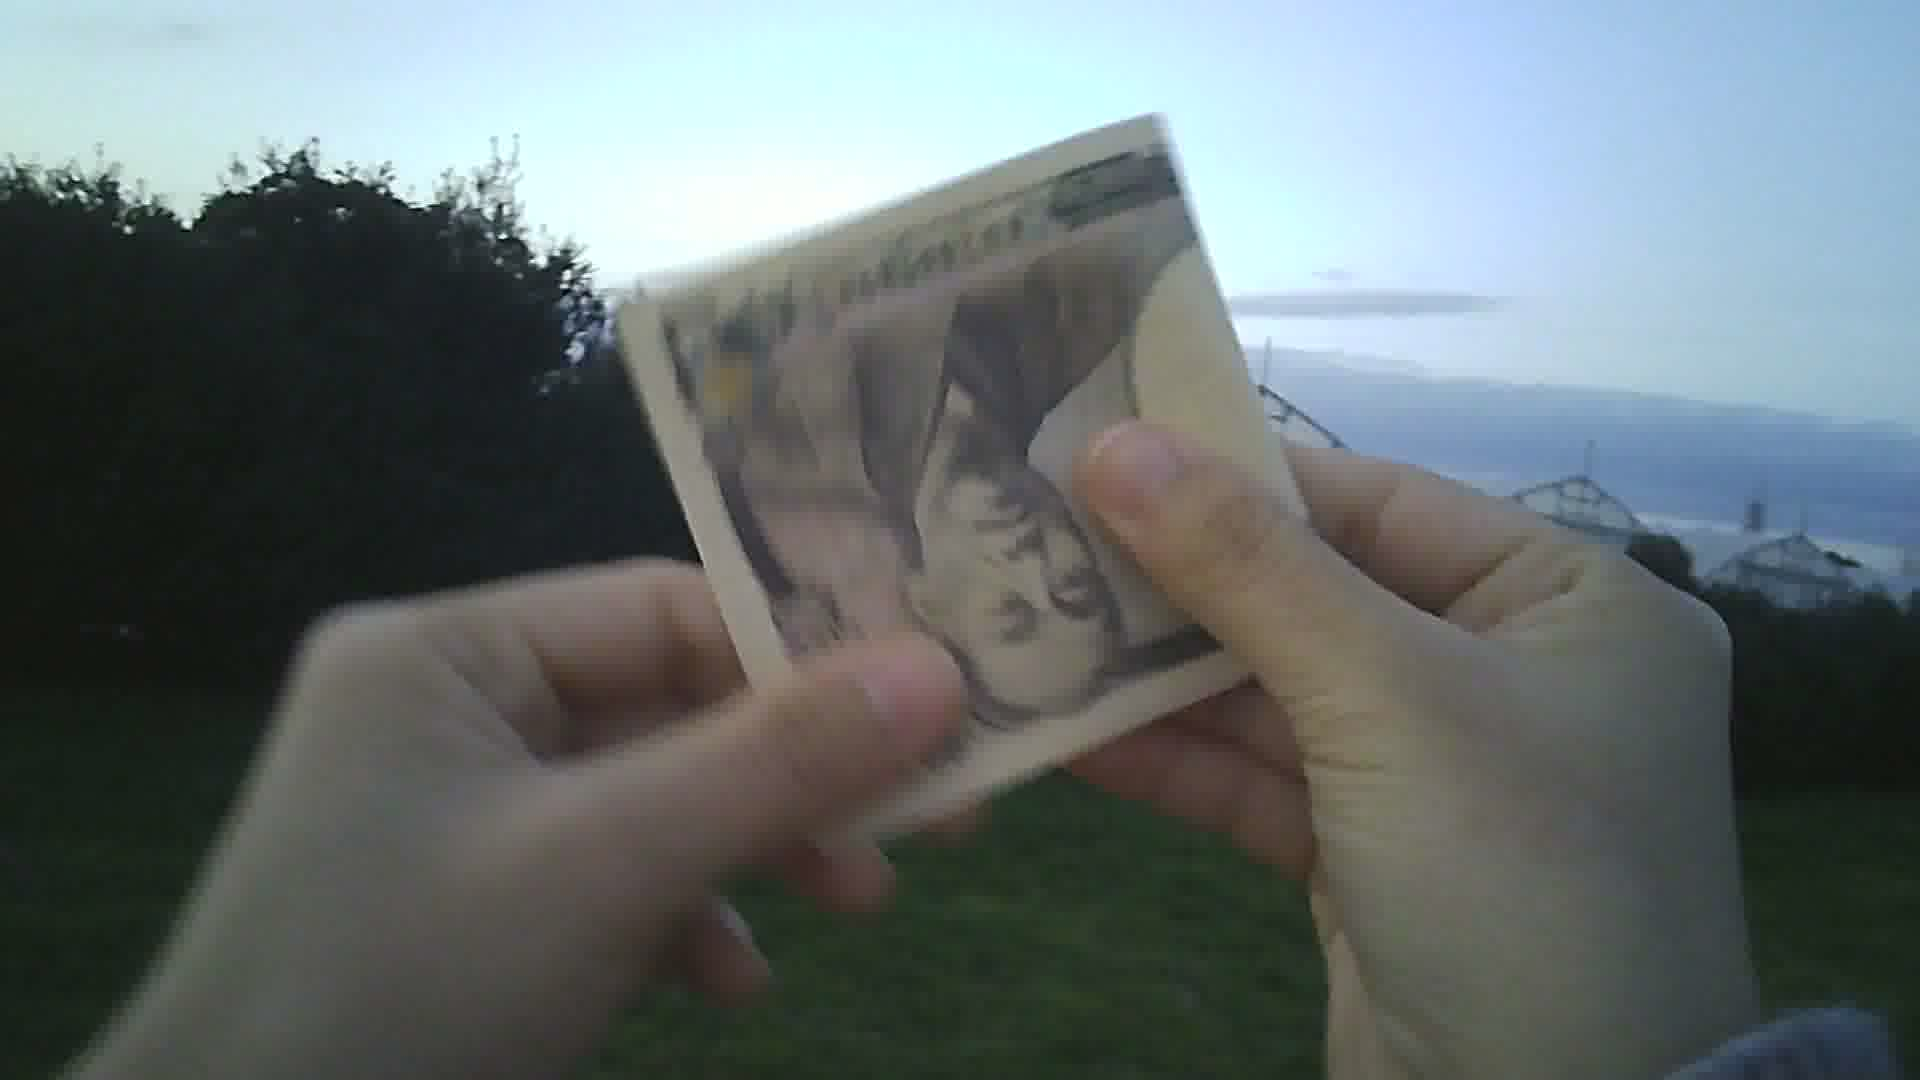10,000 Yen: (618, 117, 1365, 899)
